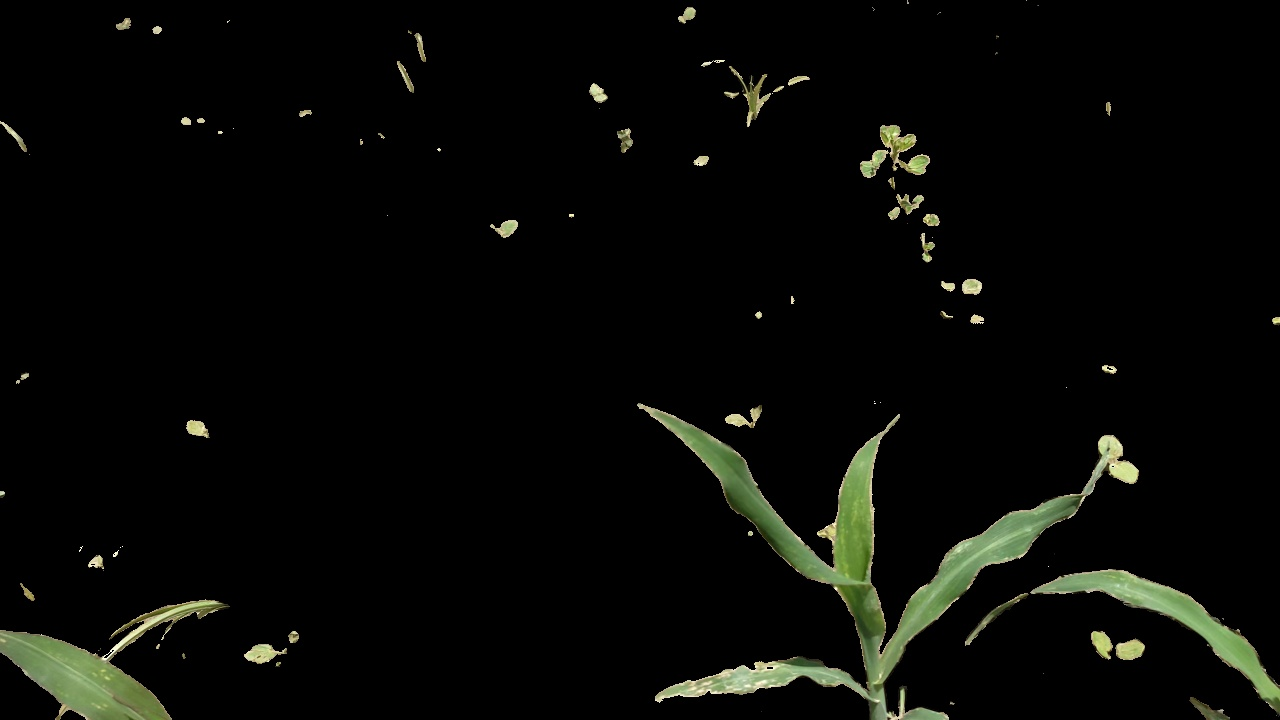crop: (629, 388, 1106, 720), (491, 204, 536, 245)
weed: (689, 55, 828, 125), (849, 114, 928, 185), (235, 634, 313, 667), (880, 193, 945, 227), (939, 264, 998, 299), (1092, 624, 1153, 657), (1101, 432, 1141, 481), (727, 398, 776, 432)
